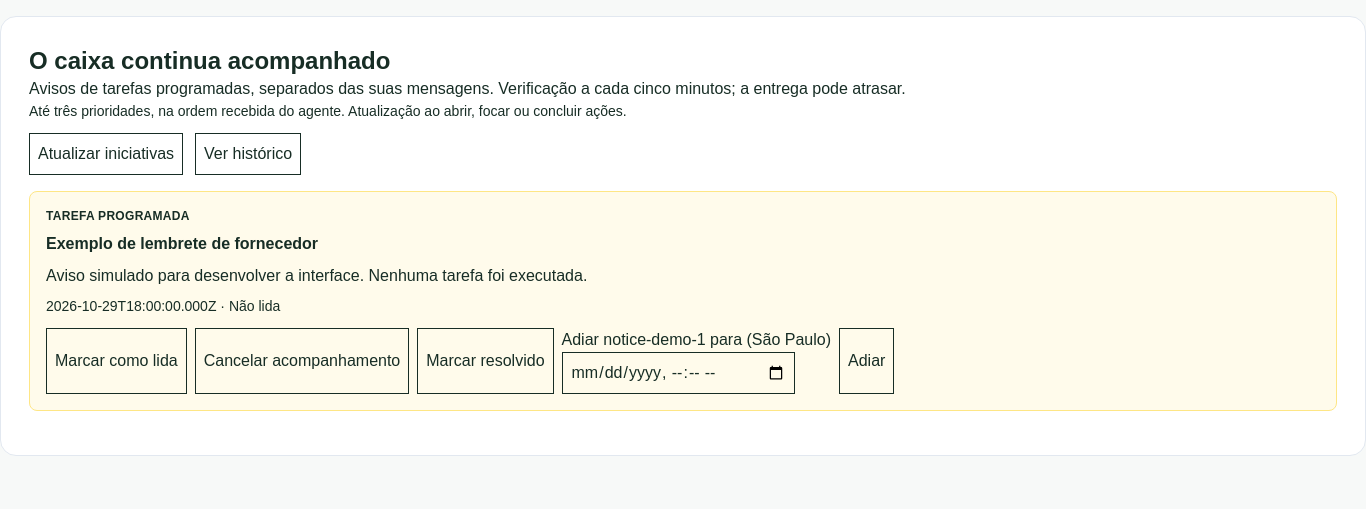
Test: T20 TASK-05 adiar envia horário explícito convertido de São Paulo
The image size is (1366, 509).
Expected: the heading "Exemplo de lembrete de fornecedor" is shown, [46,235,318,252]
Type "2026-10-30T10:00" into the field labelled "Adiar notice-demo-1 para (São Paulo)". click: (678, 373)
box: [562,352,794,394]
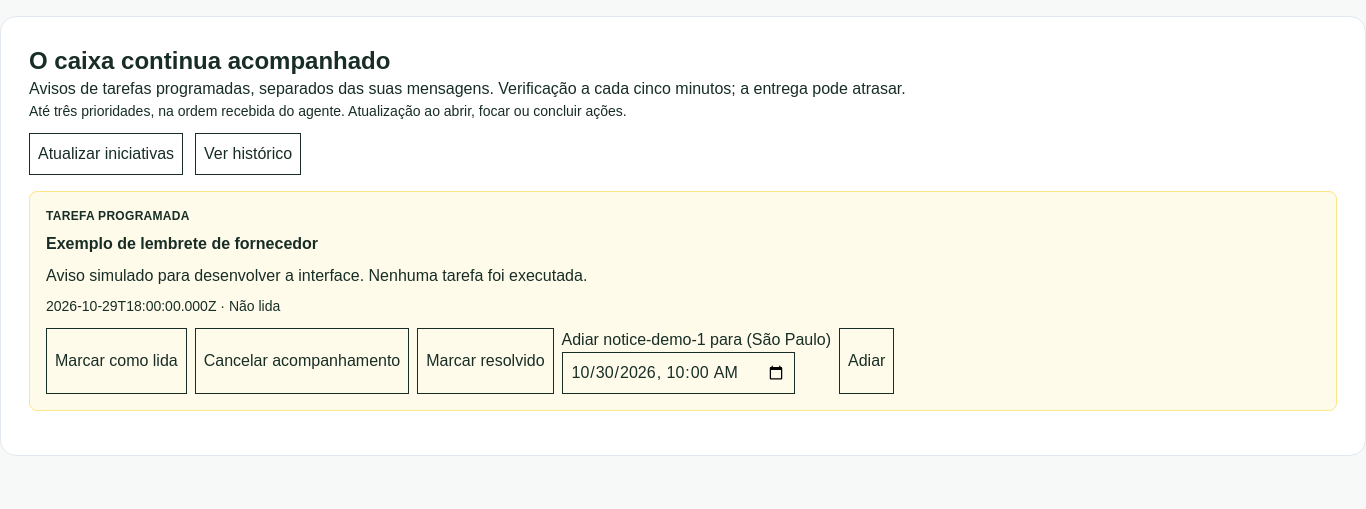
Click the button "Adiar". click: (867, 361)
box: [839,328,894,394]
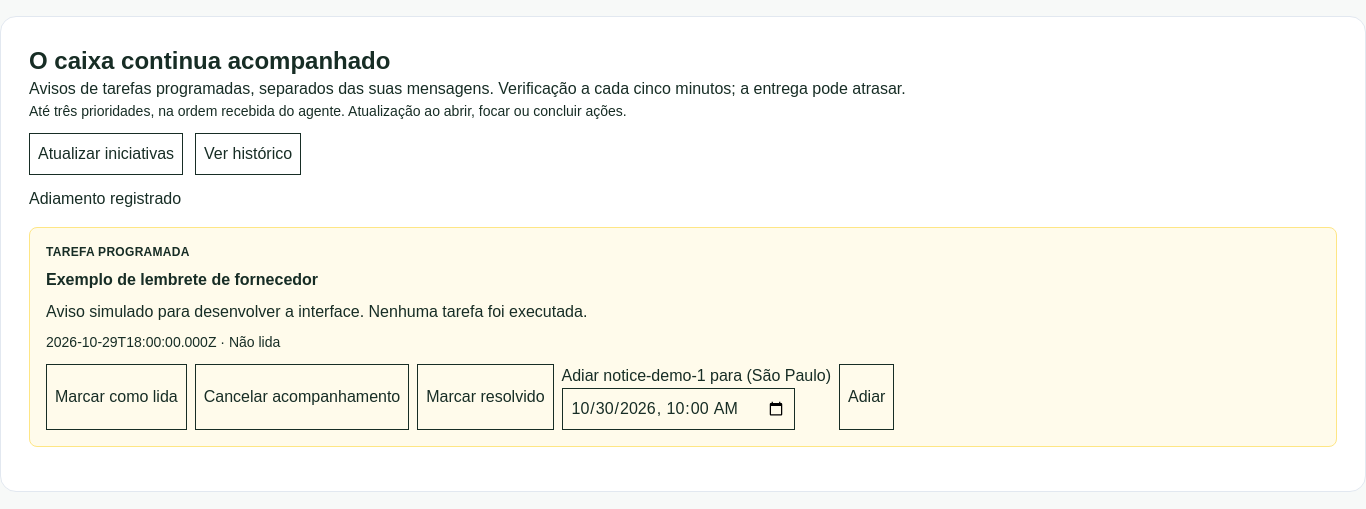
Expected: the text "Adiamento registrado" is shown, [29,190,181,207]
